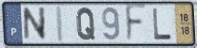9: (101, 6, 122, 43)
F: (124, 3, 148, 45)
I: (55, 5, 66, 44)
L: (151, 7, 173, 41)
N: (22, 6, 47, 42)
Q: (75, 7, 96, 42)
